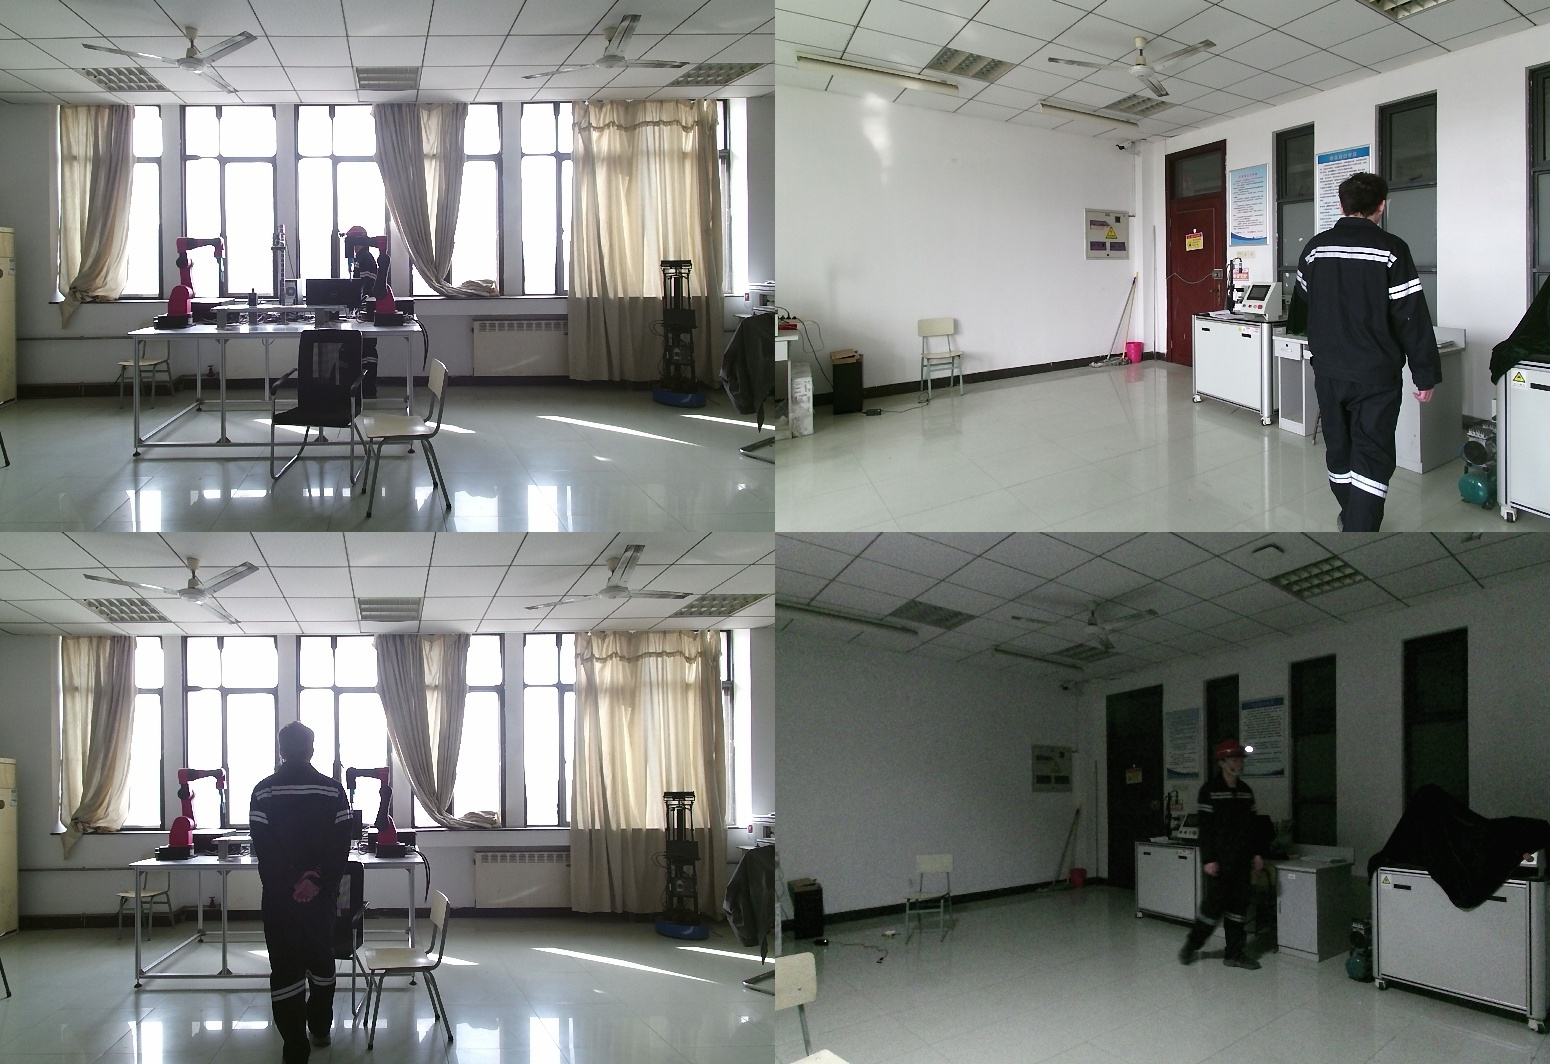person: (1296, 173, 1462, 532), (246, 724, 355, 1064), (1178, 738, 1261, 971), (335, 225, 379, 398)
